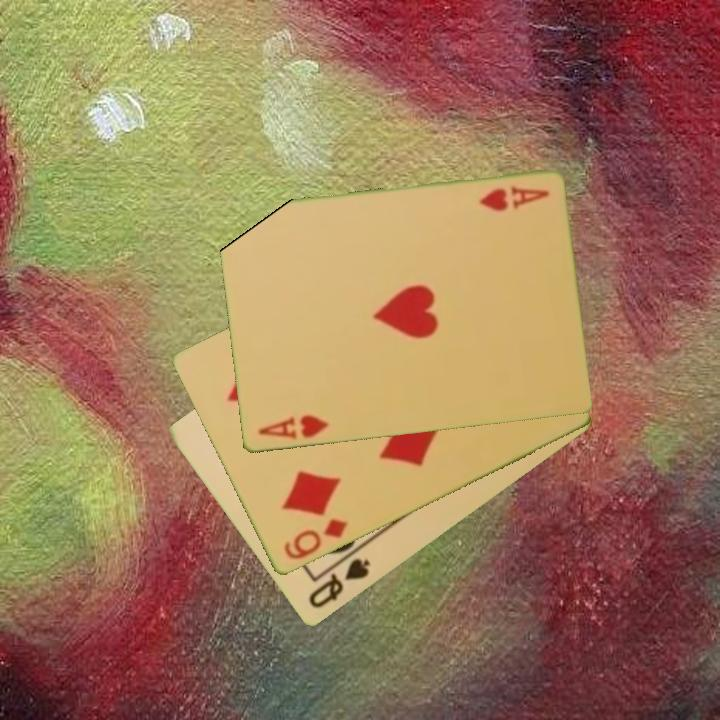6d: (280, 515, 351, 563)
Ah: (475, 183, 552, 214), (254, 412, 331, 442)
Qs: (305, 555, 373, 612)
